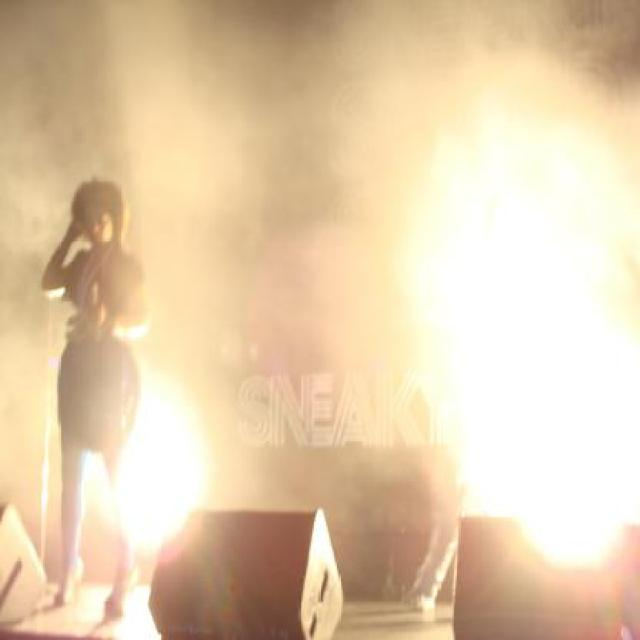obstacle: (40, 181, 145, 605)
